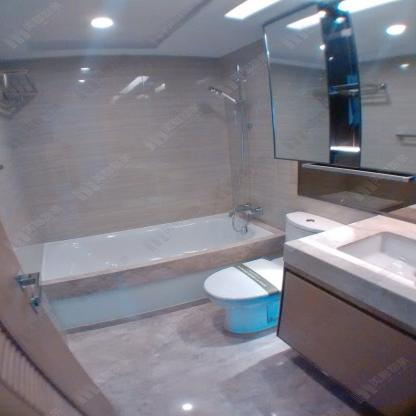Bathtub: (42, 211, 284, 334)
Toilet: (202, 256, 284, 333), (285, 211, 347, 243)
Toilet Sink: (282, 214, 416, 328)
